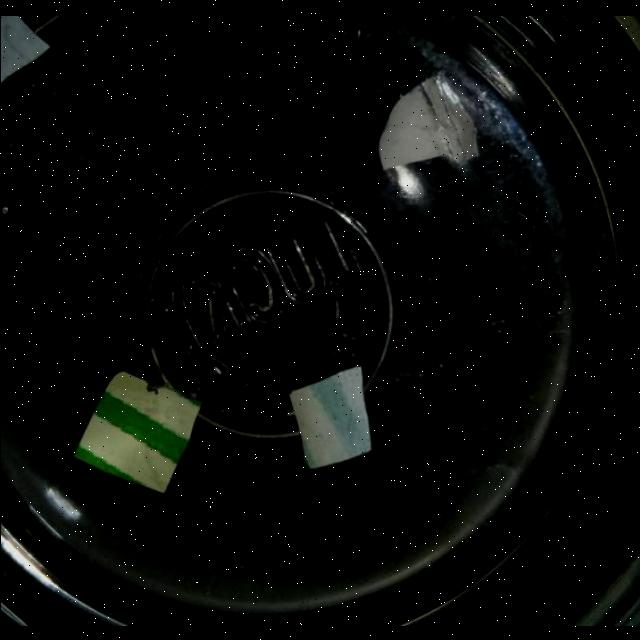Fragment: (70, 365, 204, 491), (372, 67, 474, 176), (288, 363, 372, 469), (1, 15, 54, 85)
